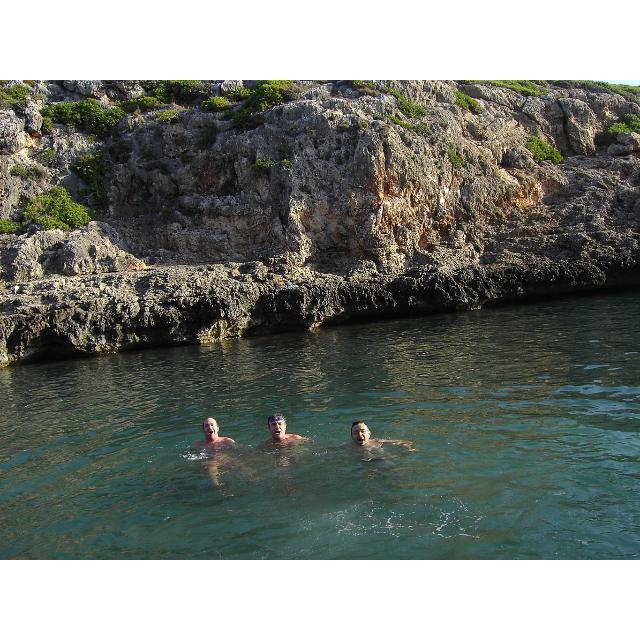human: (340, 414, 407, 466), (188, 417, 244, 469), (254, 411, 318, 449)
